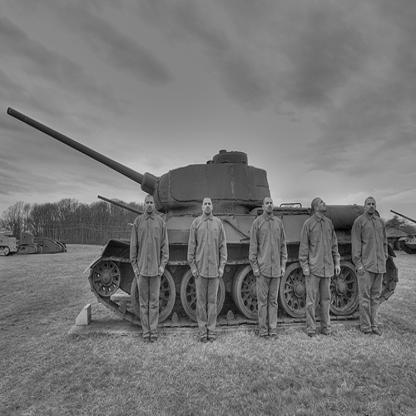Tank: (6, 105, 416, 345)
